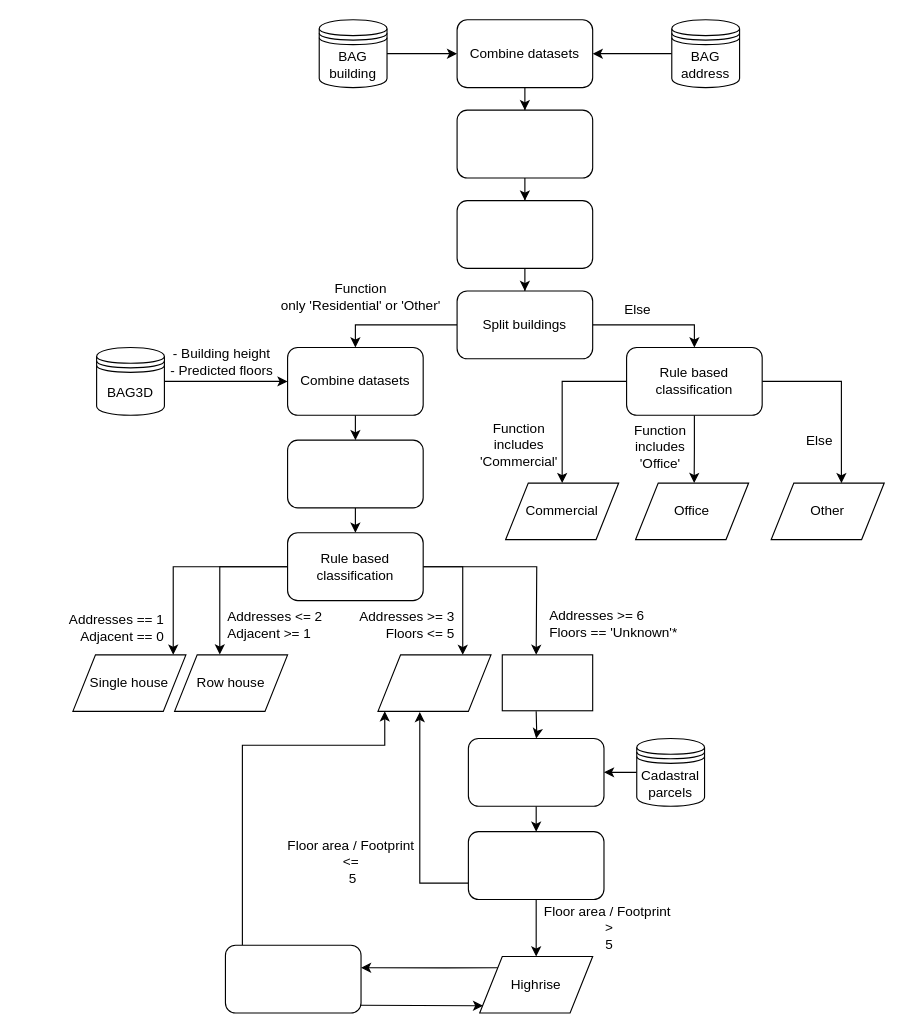
The diagram is 904 pixels wide and 1035 high, and some of its shapes have lost their labels. The centre of each missing label's shape, as x and y in pixels:
Apartment: the point at 434,682
Apartment or Highrise: the point at 547,682
Calculate floor area per building footprint: the point at 535,865
Calculate number of adjacent objects: the point at 354,473
Cluster objects of same building using cadastral parcels: the point at 535,771
Filter buildings in use or in renovation: the point at 524,143
Manually check outliers: the point at 292,978
Remove buildings without addresses: the point at 524,233
